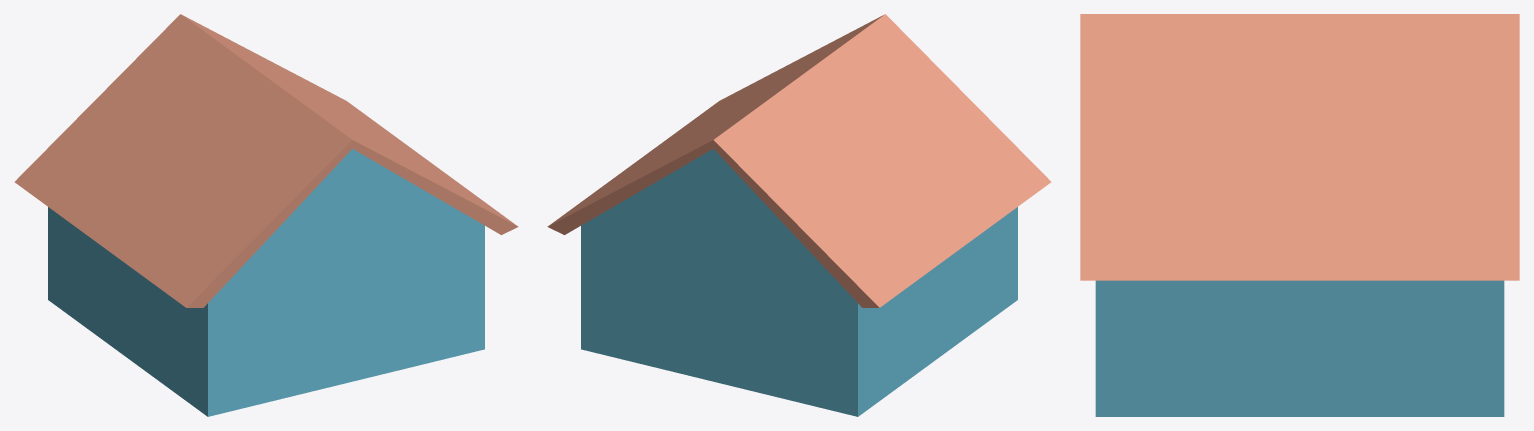
The model's file is house1.fbx.
The picture shows the model from 3 angles, left to right: view 1: azimuth 30°, elevation 25°; view 2: azimuth 150°, elevation 25°; view 3: azimuth 270°, elevation 25°; orthographic projection. The views are drawn at different scales.
Visible parts, largest first — view 1: Cube; view 2: Cube; view 3: Cube.
Part boxes in pixels (left/top/right/bottom): Cube: left=14, top=14, right=518, bottom=416; Cube: left=547, top=14, right=1051, bottom=416; Cube: left=1080, top=14, right=1519, bottom=416.
Size of the model in its own units: 7.53 by 6.75 by 5.36.
